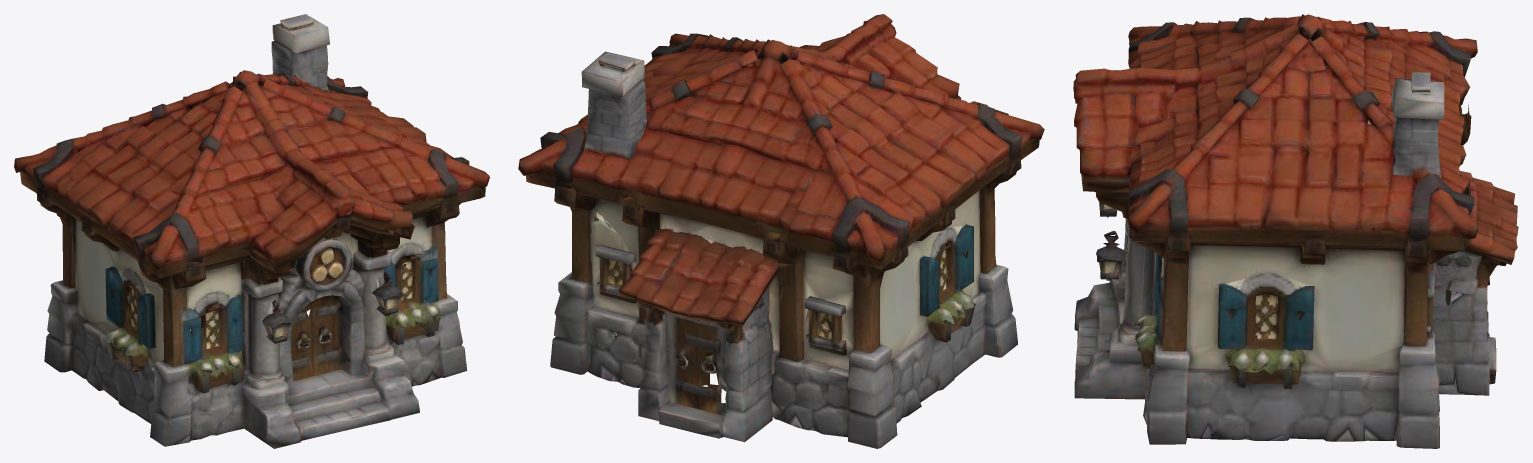
3 renders of one model, left to right at view 1: azimuth 30°, elevation 25°; view 2: azimuth 150°, elevation 25°; view 3: azimuth 270°, elevation 25°, orthographic. The views are drawn at different scales.
Parts seen in each view (by area): view 1: alpine__vault_bank__native_mobile; view 2: alpine__vault_bank__native_mobile; view 3: alpine__vault_bank__native_mobile.
Boxes of the visible parts, x1,y1,x2,y2 form: alpine__vault_bank__native_mobile: (14,14,489,448); alpine__vault_bank__native_mobile: (518,14,1044,448); alpine__vault_bank__native_mobile: (1073,14,1518,448).
Bounding box in the file's own units: 1 × 0.8402 × 0.964.
Materials: 1 (1 with a texture image).
